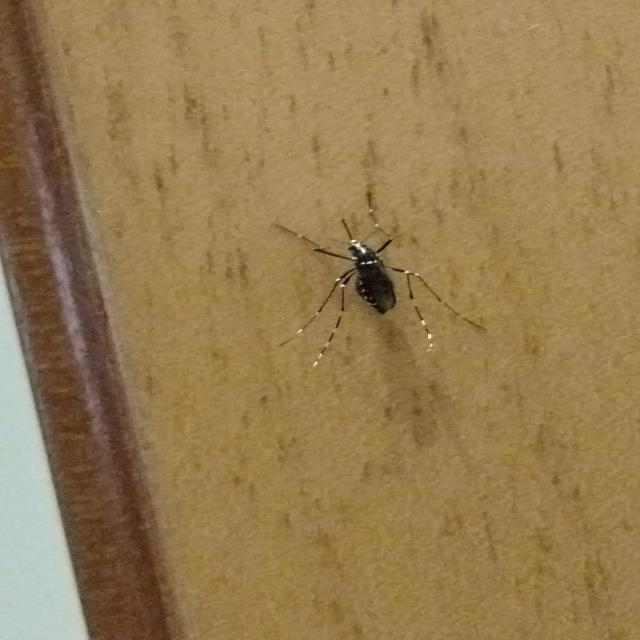albopictus: (258, 184, 496, 365)
